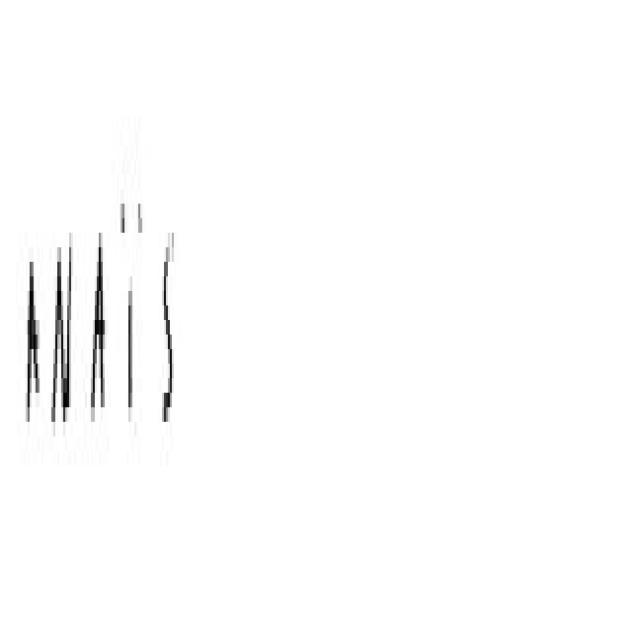A: (14, 203, 44, 498), (89, 189, 108, 517)
I: (117, 137, 146, 502)
N: (46, 193, 80, 464)
S: (154, 184, 186, 599)
